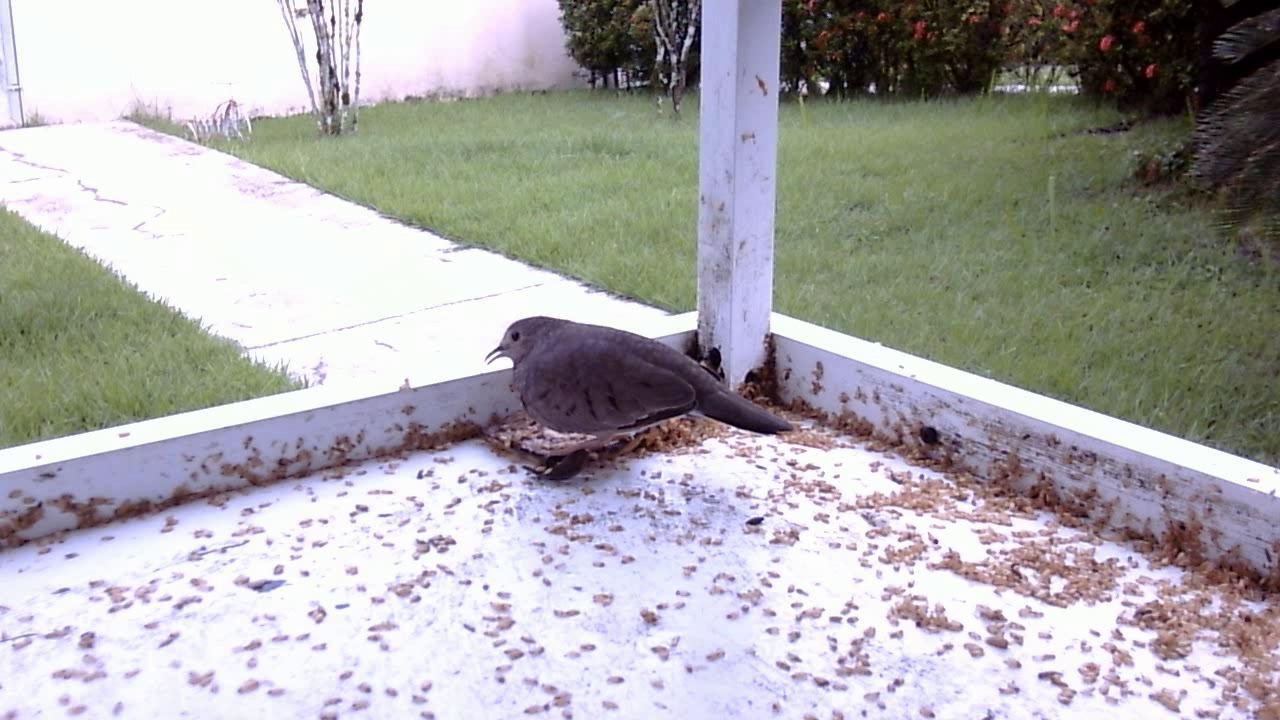rolinha: (480, 310, 791, 488)
